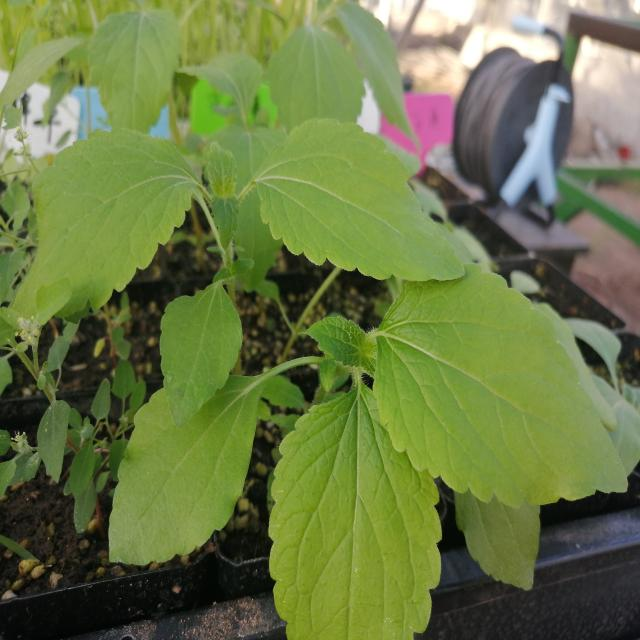billygoat_weed: (146, 246, 598, 594), (13, 79, 444, 314)
